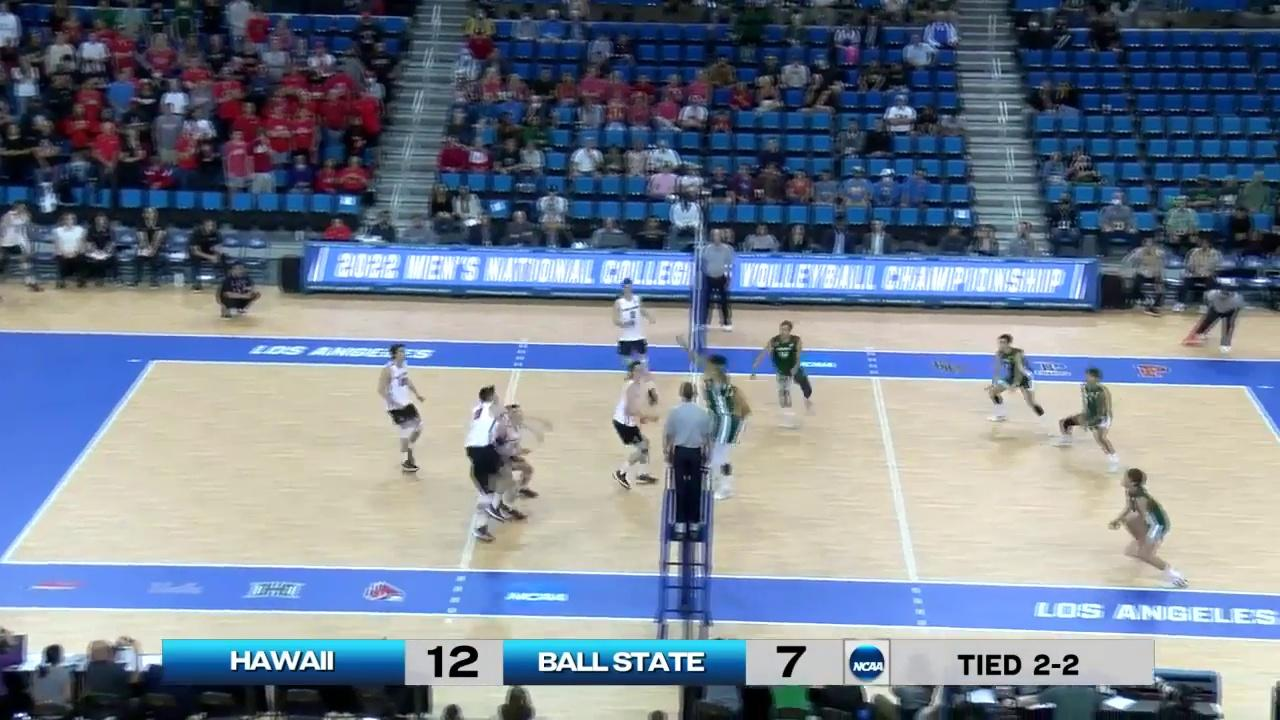player: (1109, 470, 1186, 588), (457, 380, 516, 522), (1054, 365, 1124, 467), (486, 404, 541, 523), (608, 360, 657, 486), (698, 352, 740, 498), (986, 333, 1049, 426), (476, 422, 523, 546), (383, 344, 428, 472), (701, 370, 750, 487), (768, 321, 811, 425), (610, 280, 652, 382)
refree: (665, 382, 719, 531), (696, 228, 736, 331), (1188, 288, 1241, 352)
